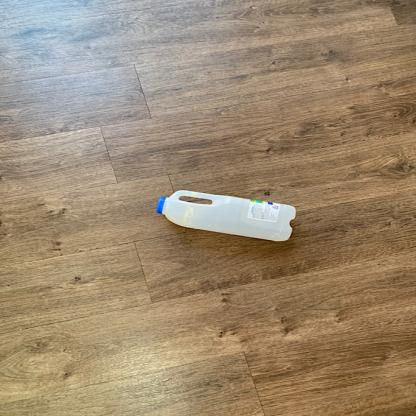trash: (155, 185, 297, 242)
